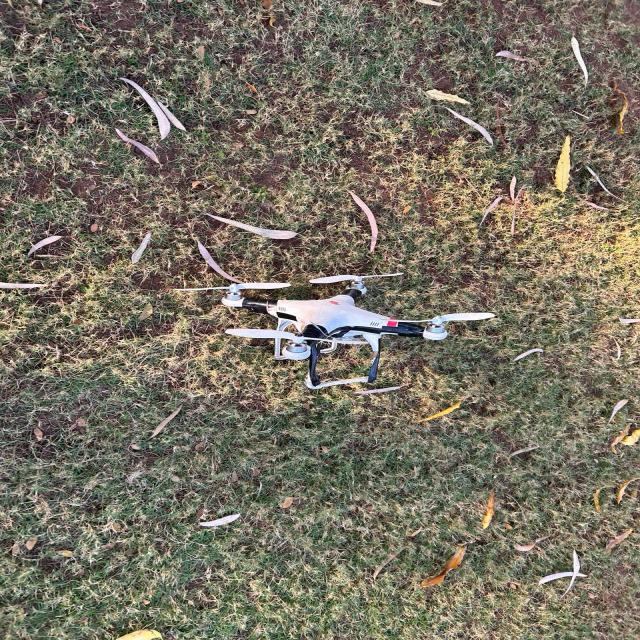drone: (140, 245, 547, 422)
